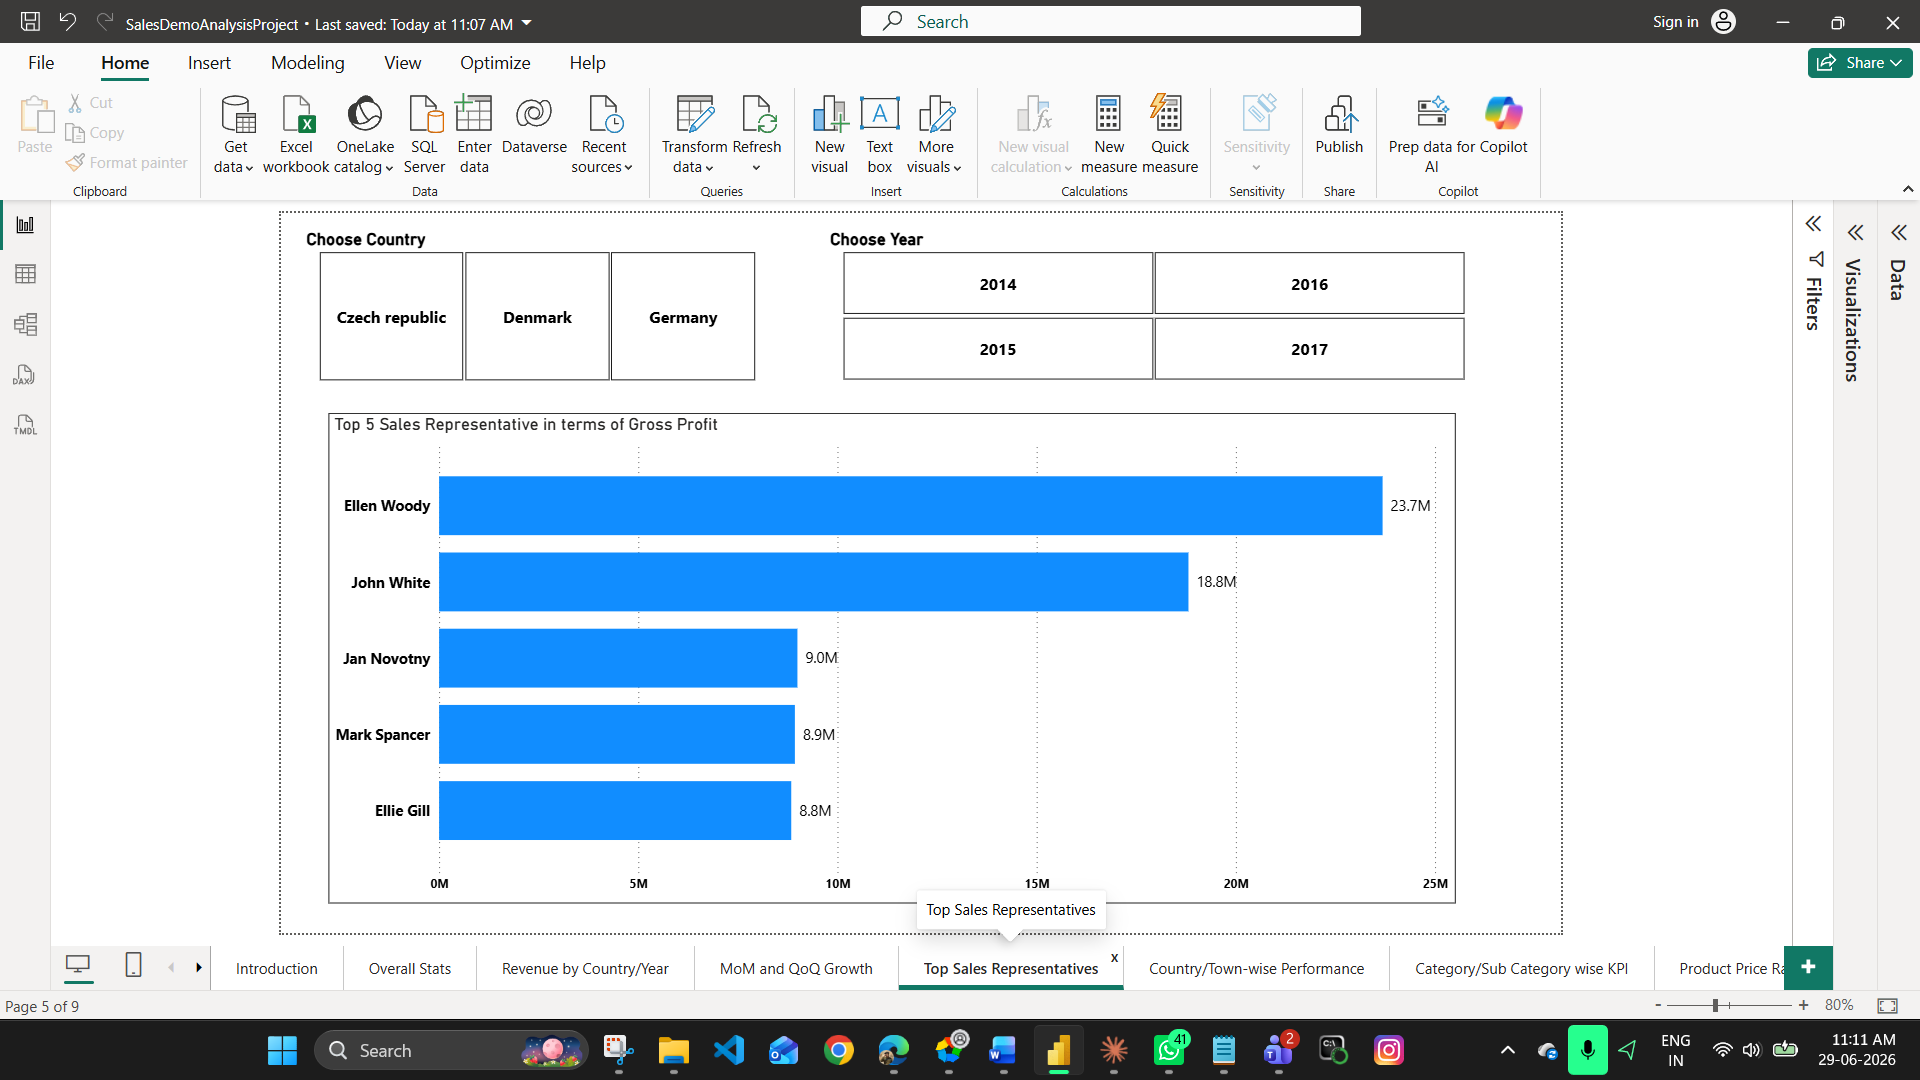

What the dashboard file says about the page in this screenshot:
{"tool":"powerbi","page":{"name":"Top Sales Representatives","canvas":[1280,720],"ordinal":4},"visuals":[{"type":"slicer","fields":{"Values":["DimGeography.Country"]},"box":[12.9,11.4,485.7,162.9],"z":0},{"type":"slicer","fields":{"Values":["CalendarMaster.Year"]},"box":[536.2,11.2,671.2,162.5],"z":1000},{"type":"clusteredBarChart","title":"Top 5 Sales Representative in terms of Gross Profit","fields":{"Y":["FactSales.Total Gross Profit"],"Category":["DimSalesRep.Sales Rep Name"]},"box":[47.1,200,1127.1,490],"z":2000}]}

Visuals, with their boxes on the page's 1280x720 design canvas (x1, y1, x2, y2). These are canvas units, not pixel positions in the 1920x1080 screenshot, which may show the page scaled, cropped or inside an application window:
slicer - DimGeography.Country: <bbox>13, 11, 499, 174</bbox>
slicer - CalendarMaster.Year: <bbox>536, 11, 1207, 174</bbox>
"Top 5 Sales Representative in terms of Gross Profit" clusteredBarChart: <bbox>47, 200, 1174, 690</bbox>
